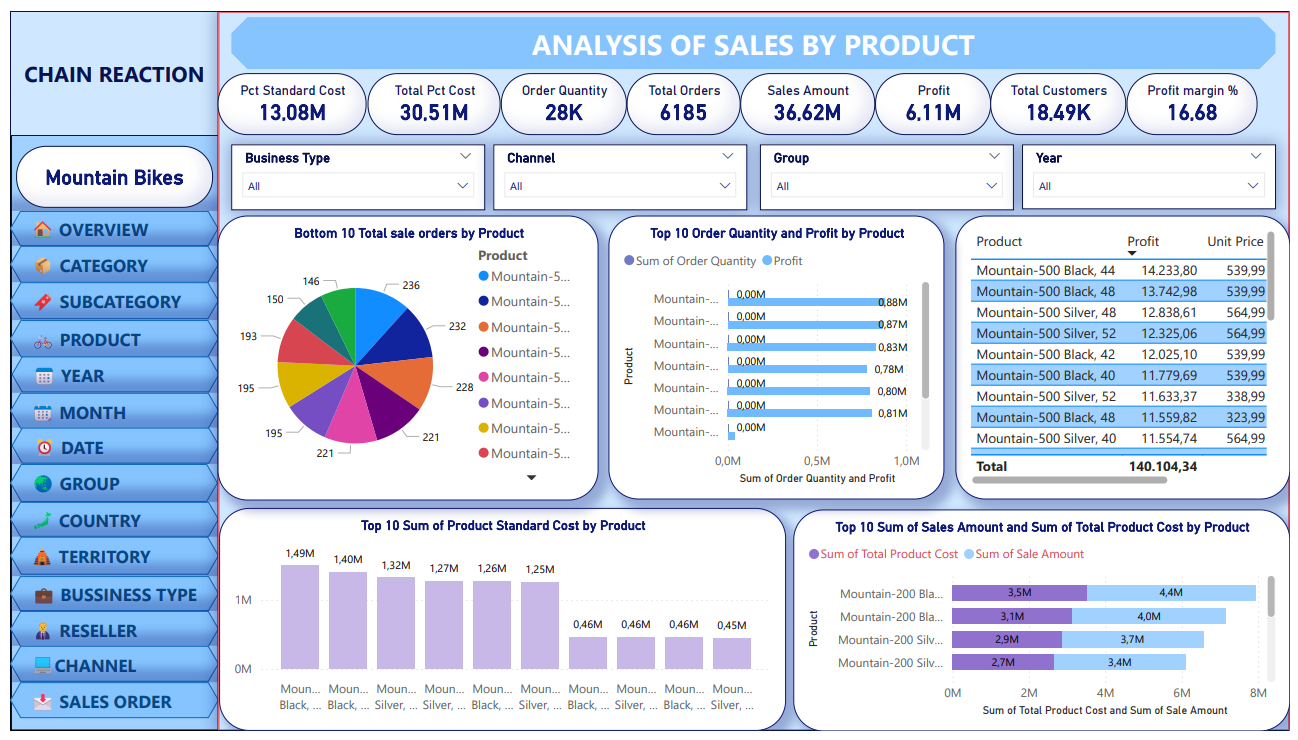

Layout of this report page (visuals, bound fields, positions):
{"tool":"powerbi","page":{"name":"Product","canvas":[1280,720],"ordinal":5},"visuals":[{"type":"shape","box":[0,0,209.9,720.4],"z":0},{"type":"shape","box":[0,199.4,208.6,35],"z":1000},{"type":"shape","box":[0,234.3,209,37],"z":2000},{"type":"shape","box":[0,271.3,209,37],"z":3000},{"type":"shape","box":[0,308.3,209,37],"z":4000},{"type":"shape","box":[1,345.3,208,36],"z":5000},{"type":"shape","box":[0,381.3,209,36],"z":6000},{"type":"shape","box":[1,417.3,208,36],"z":7000},{"type":"shape","box":[0,453.3,208,38],"z":8000},{"type":"shape","box":[0,491.3,209,35],"z":9000},{"type":"shape","box":[0,526.3,209,38],"z":10000},{"type":"shape","box":[0,564.3,209,35],"z":11000},{"type":"shape","box":[0,599.3,209,36],"z":12000},{"type":"shape","box":[0,635.3,209,36],"z":13000},{"type":"shape","box":[0,671.3,209,36],"z":14000},{"type":"shape","title":"dbdbdjb","box":[235.7,0,1044.3,52.1],"z":15000},{"type":"shape","box":[0.4,0,209.1,124.7],"z":16000},{"type":"shape","box":[207.6,0,1072.4,720.2],"z":17000},{"type":"card","title":"Order Quantity","fields":{"Values":["Sum(Sales.Order Quantity)"]},"box":[490.4,62.4,126,62.4],"z":18000},{"type":"card","title":"Pct Standard Cost","fields":{"Values":["Sum(Sales.Product Standard Cost)"]},"box":[207.9,62.4,149.2,62.4],"z":19000},{"type":"card","title":"Sales Amount","fields":{"Values":["Sum(Sales.Sale Amount)"]},"box":[730,62.4,134.5,62.4],"z":20000},{"type":"card","title":"Profit","fields":{"Values":["Sales.Profit"]},"box":[864.5,62.4,116.2,62.4],"z":21000},{"type":"card","title":"Total Pct Cost","fields":{"Values":["Sum(Sales.Total Product Cost)"]},"box":[357.1,62.4,133.3,62.4],"z":22000},{"type":"card","title":"Total Orders","fields":{"Values":["Sales.Total sale orders"]},"box":[616.3,62.4,113.7,62.4],"z":23000},{"type":"card","title":"Total Customers","fields":{"Values":["Count(Customer.Customer ID)"]},"box":[980.7,62.4,135.7,62.4],"z":24000},{"type":"card","title":"Profit margin %","fields":{"Values":["Sales.Profit margin"]},"box":[1116.4,62.4,130.8,62.4],"z":25000},{"type":"shape","title":"dbdbdjb","box":[221.1,5.6,1044.4,52.2],"z":26000},{"type":"slicer","fields":{"Values":["Business Type.Business Type"]},"box":[221.3,133.3,254,66],"z":27000},{"type":"slicer","fields":{"Values":["Channel.Channel"]},"box":[483.6,133.6,254.3,65.7],"z":28000},{"type":"slicer","fields":{"Values":["Group.Group"]},"box":[749.3,133.6,254.3,65.7],"z":29000},{"type":"slicer","fields":{"Values":["Date.Year"]},"box":[1011.8,133.6,253.6,65.5],"z":30000},{"type":"clusteredColumnChart","title":"Top 10 Sum of Product Standard Cost by Product","fields":{"Category":["Product.Product"],"Y":["Sum(Sales.Product Standard Cost)"]},"box":[208.6,496.9,566.8,223.1],"z":31000},{"type":"tableEx","title":"Bottom 10 Profit by Product","fields":{"Values":["Product.Product","Sales.Profit","Sales.Unit Price","Sales.Product Standard Cost"]},"box":[945.2,204.5,334.8,284],"z":32000},{"type":"barChart","title":"Top 10 Sum of Sales Amount and Sum of Total Product Cost by Product","fields":{"Category":["Product.Product"],"Y":["Sum(Sales.Total Product Cost)","Sum(Sales.Sale Amount)"]},"box":[782.7,498.1,496.9,221.9],"z":33000},{"type":"pieChart","title":"Bottom 10 Total sale orders by Product","fields":{"Category":["Product.Product"],"Y":["Sales.Total sale orders"]},"box":[207.2,204.5,381.5,285.4],"z":34000},{"type":"clusteredBarChart","title":"Top 10 Order Quantity and Profit by Product","fields":{"Category":["Product.Product"],"Y":["Sum(Sales.Order Quantity)","Sales.Profit"]},"box":[598.3,204.5,336.2,284],"z":35000},{"type":"card","fields":{"Values":["Subcategory.SSubC"]},"box":[6.1,134.5,196.9,62.4],"z":36000}]}

Visuals, with their boxes in screenshot pixels (x1, y1, x2, y2), scaled from the page's 1280x720 canvas onto the 1298x740 screenshot:
shape: 0, 0, 213, 739
shape: 0, 205, 212, 241
shape: 0, 241, 212, 279
shape: 0, 279, 212, 317
shape: 0, 317, 212, 355
shape: 1, 355, 212, 392
shape: 0, 392, 212, 429
shape: 1, 429, 212, 466
shape: 0, 466, 211, 505
shape: 0, 505, 212, 541
shape: 0, 541, 212, 580
shape: 0, 580, 212, 616
shape: 0, 616, 212, 653
shape: 0, 653, 212, 690
shape: 0, 690, 212, 727
"dbdbdjb" shape: 239, 0, 1297, 54
shape: 0, 0, 212, 128
shape: 211, 0, 1297, 739
"Order Quantity" card: 497, 64, 625, 128
"Pct Standard Cost" card: 211, 64, 362, 128
"Sales Amount" card: 740, 64, 877, 128
"Profit" card: 877, 64, 994, 128
"Total Pct Cost" card: 362, 64, 497, 128
"Total Orders" card: 625, 64, 740, 128
"Total Customers" card: 994, 64, 1132, 128
"Profit margin %" card: 1132, 64, 1265, 128
"dbdbdjb" shape: 224, 6, 1283, 59
slicer - Business Type.Business Type: 224, 137, 482, 205
slicer - Channel.Channel: 490, 137, 748, 205
slicer - Group.Group: 760, 137, 1018, 205
slicer - Date.Year: 1026, 137, 1283, 205
"Top 10 Sum of Product Standard Cost by Product" clusteredColumnChart: 212, 511, 786, 739
"Bottom 10 Profit by Product" tableEx: 958, 210, 1297, 502
"Top 10 Sum of Sales Amount and Sum of Total Product Cost by Product" barChart: 794, 512, 1297, 739
"Bottom 10 Total sale orders by Product" pieChart: 210, 210, 597, 504
"Top 10 Order Quantity and Profit by Product" clusteredBarChart: 607, 210, 948, 502
card - Subcategory.SSubC: 6, 138, 206, 202
